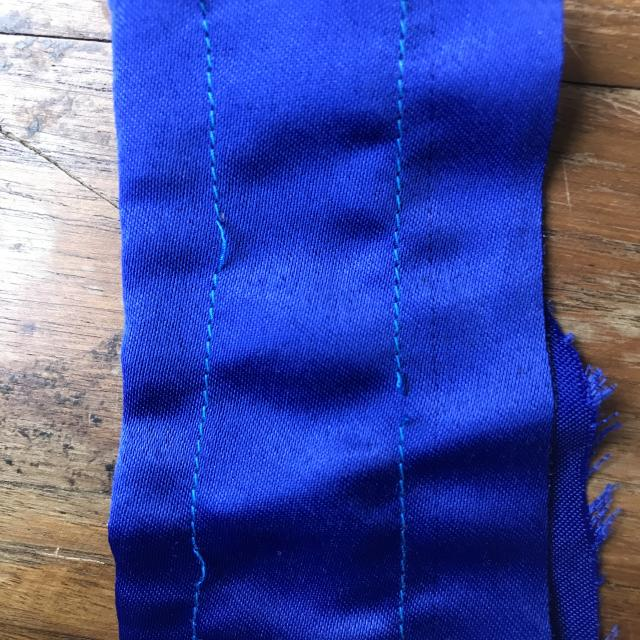broken: (375, 349, 429, 454)
good: (187, 328, 223, 453)
skip: (168, 526, 262, 618), (188, 204, 254, 278)
